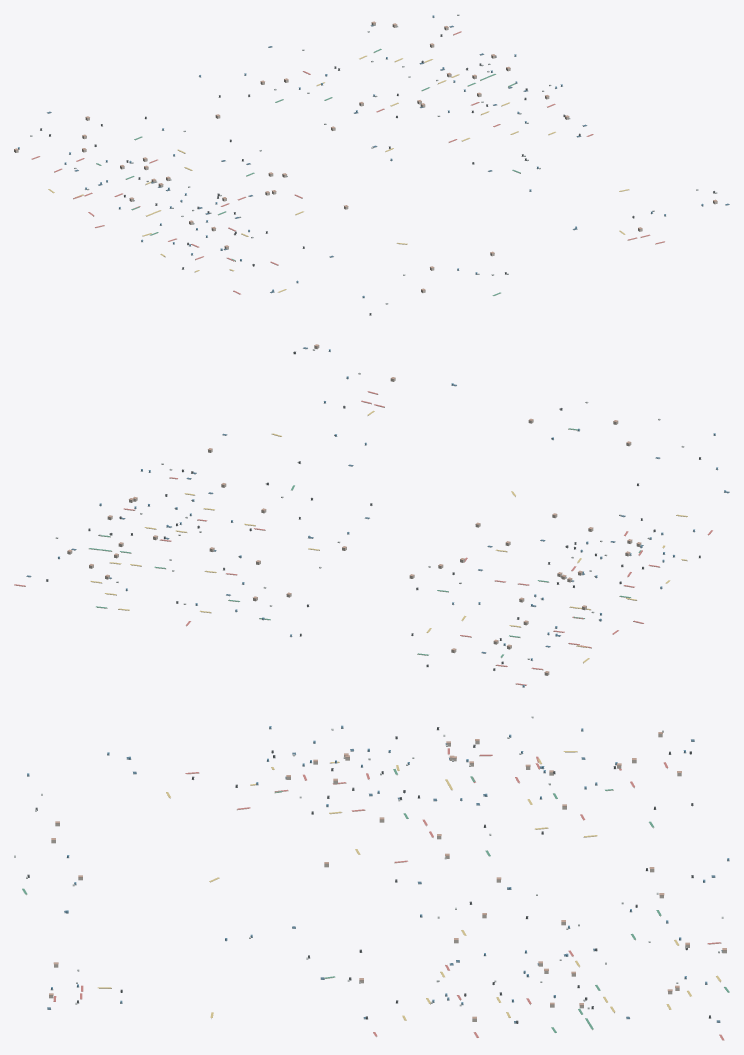
The picture shows the model from 3 angles, top to bottom: view 1: azimuth 30°, elevation 25°; view 2: azimuth 150°, elevation 25°; view 3: azimuth 270°, elevation 25°; orthographic projection. The views are drawn at different scales.
Parts seen in each view (by area): view 1: OSM-anchored illustrative rooftops, façades and shop awnings; view 2: OSM-anchored illustrative rooftops, façades and shop awnings; view 3: OSM-anchored illustrative rooftops, façades and shop awnings.
Part boxes in pixels (x1=…): OSM-anchored illustrative rooftops, façades and shop awnings: x1=14, y1=14, x2=729, y2=315; OSM-anchored illustrative rooftops, façades and shop awnings: x1=14, y1=344, x2=729, y2=687; OSM-anchored illustrative rooftops, façades and shop awnings: x1=14, y1=716, x2=729, y2=1040.
Bounding box in the file's own units: 424 × 32.49 × 439.
